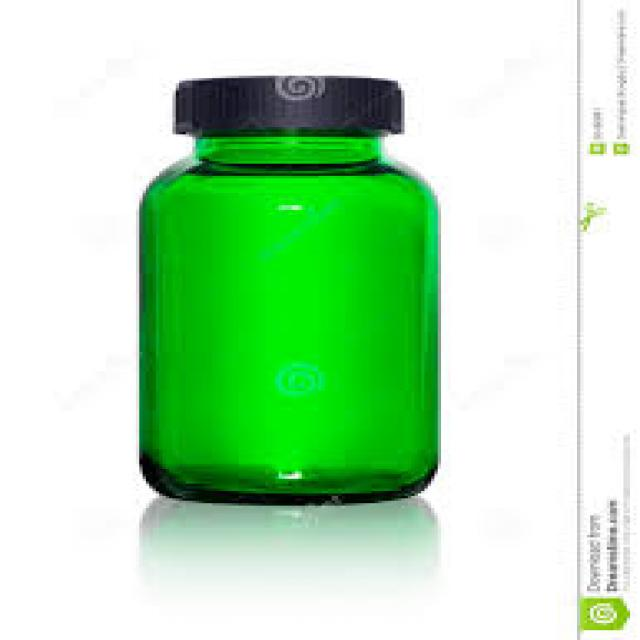Glass-Non-Biodegradable but Recyclable-: (136, 75, 440, 507)
